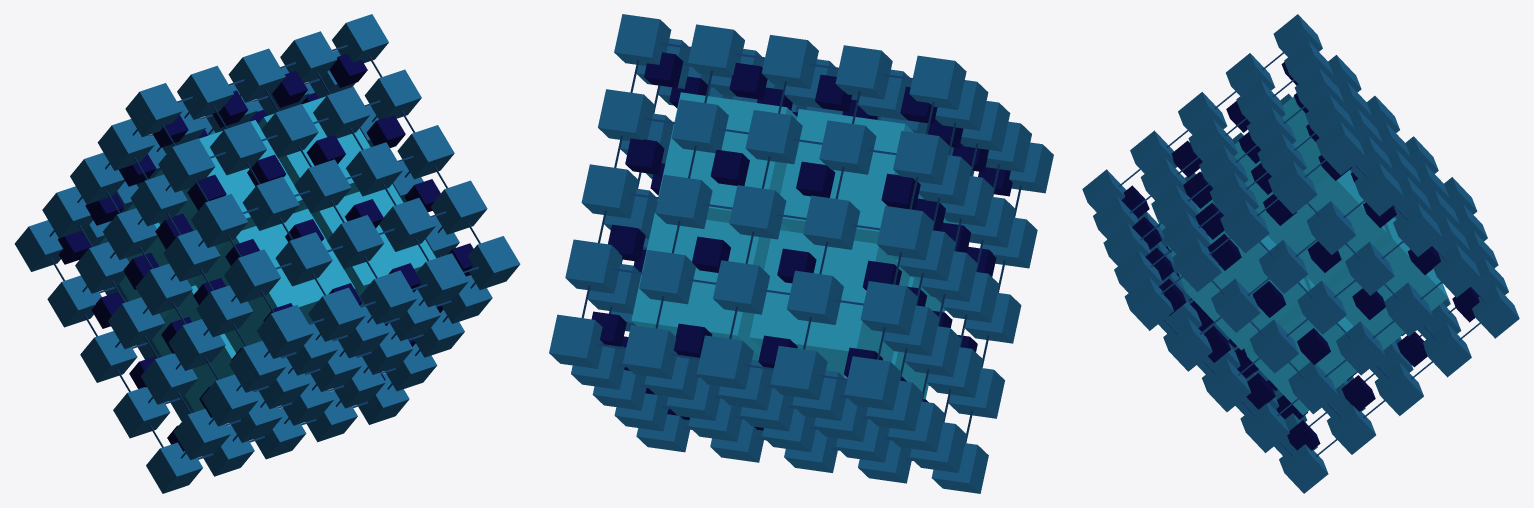
The model's file is Low_Poly_Planet_27.fbx.
The picture shows the model from 3 angles, left to right: view 1: azimuth 30°, elevation 25°; view 2: azimuth 150°, elevation 25°; view 3: azimuth 270°, elevation 25°; orthographic projection. The views are drawn at different scales.
Visible parts, largest first — view 1: Planet_27; view 2: Planet_27; view 3: Planet_27.
Part boxes in pixels (box(x1,y1,x2,y2)): Planet_27: box(14, 14, 520, 493); Planet_27: box(549, 14, 1053, 493); Planet_27: box(1082, 14, 1519, 493).
Size of the model in its own units: 290 by 336 by 368.
